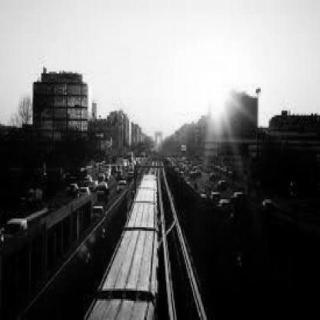other: (77, 70, 107, 122)
